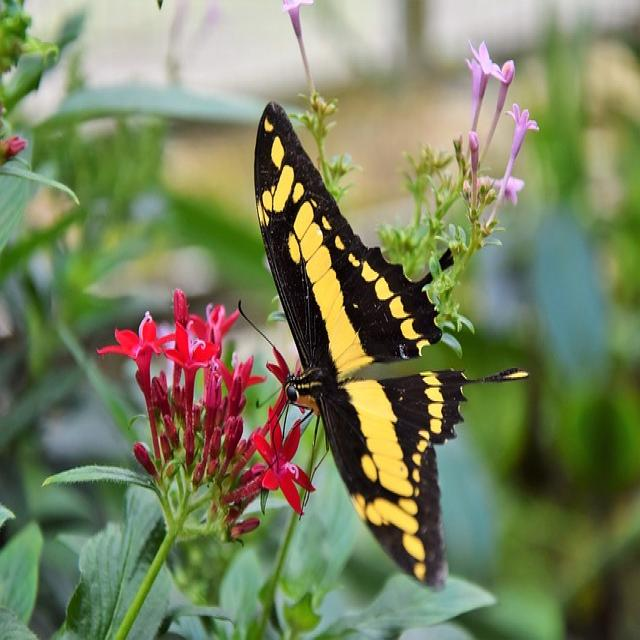butterfly: (253, 104, 527, 593)
